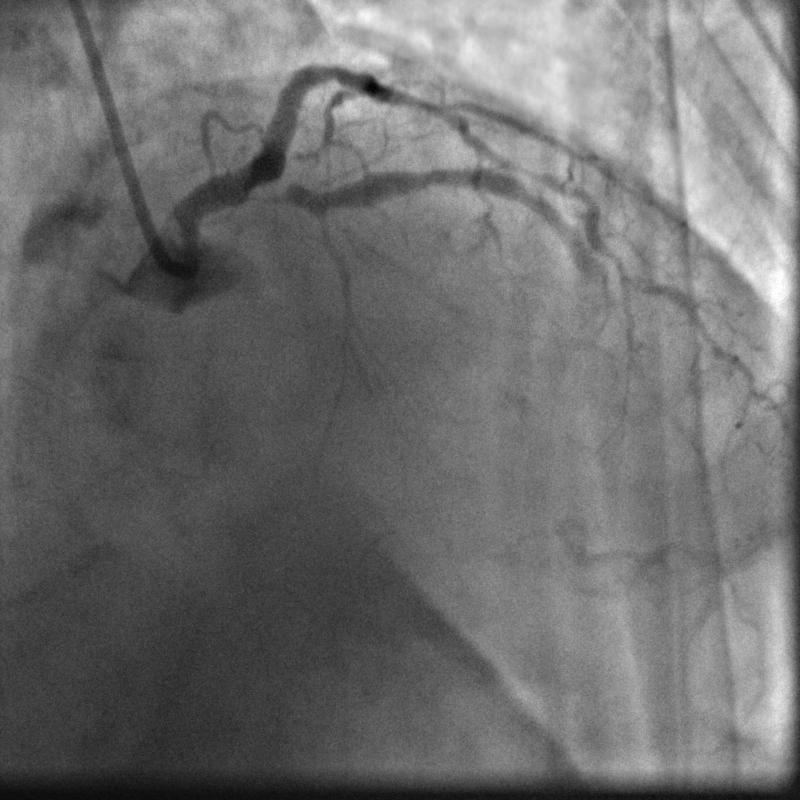Stenosis: (255, 174, 299, 205)
